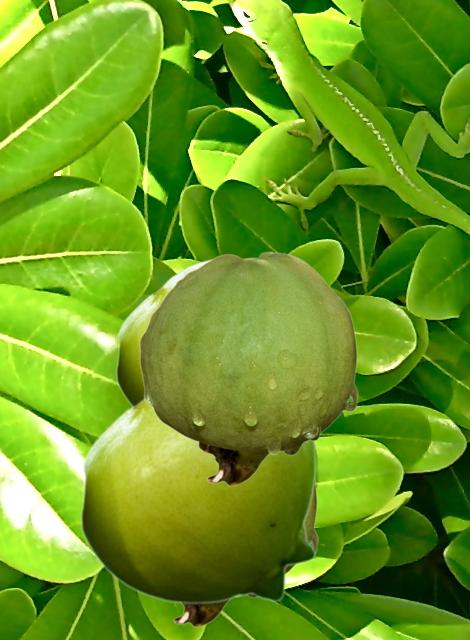guava: (139, 251, 357, 485), (79, 397, 316, 603), (172, 482, 317, 626), (115, 257, 211, 404)
